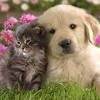cat: (11, 20, 49, 54)
dog: (38, 4, 100, 60)
